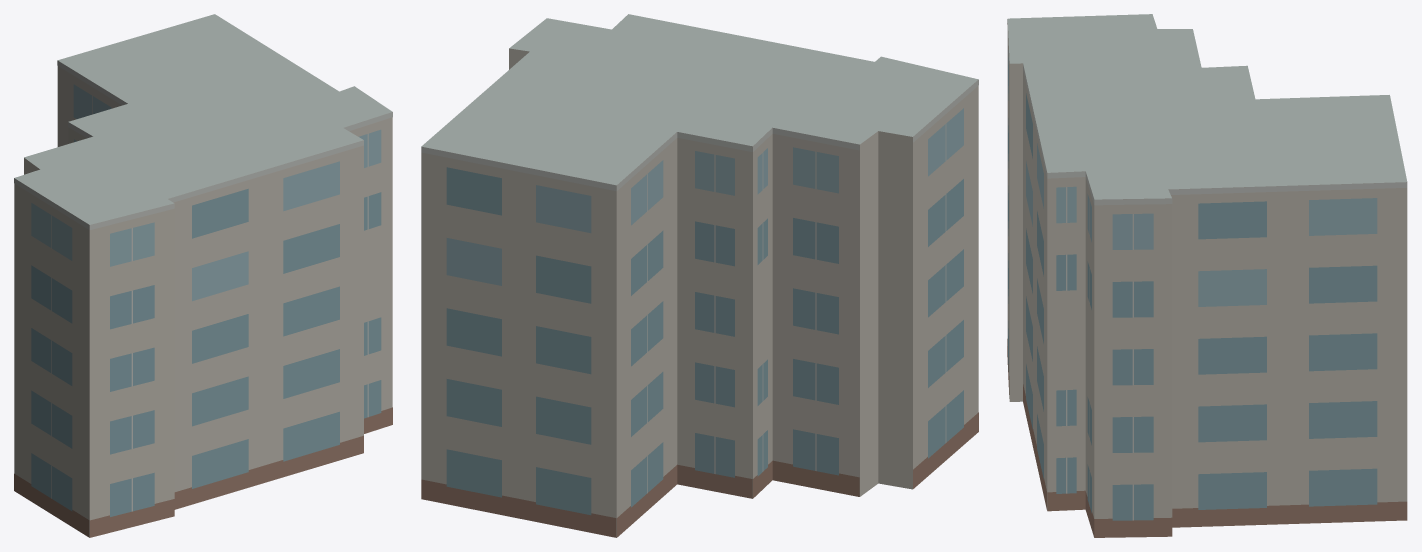
File: survey-upis-32653397.glb
3 renders of one model, left to right at view 1: azimuth 30°, elevation 25°; view 2: azimuth 150°, elevation 25°; view 3: azimuth 270°, elevation 25°, orthographic. The views are drawn at different scales.
Parts seen in each view (by area): view 1: survey-upis-32653397.tmp; view 2: survey-upis-32653397.tmp; view 3: survey-upis-32653397.tmp.
Part boxes in pixels (x1=…): survey-upis-32653397.tmp: x1=14, y1=14, x2=392, y2=537; survey-upis-32653397.tmp: x1=421, y1=14, x2=978, y2=537; survey-upis-32653397.tmp: x1=1007, y1=14, x2=1407, y2=537.
Bounding box in the file's own units: 17.01 × 14.45 × 15.49.
